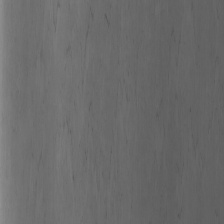silk_spot: (53, 6, 142, 158)
